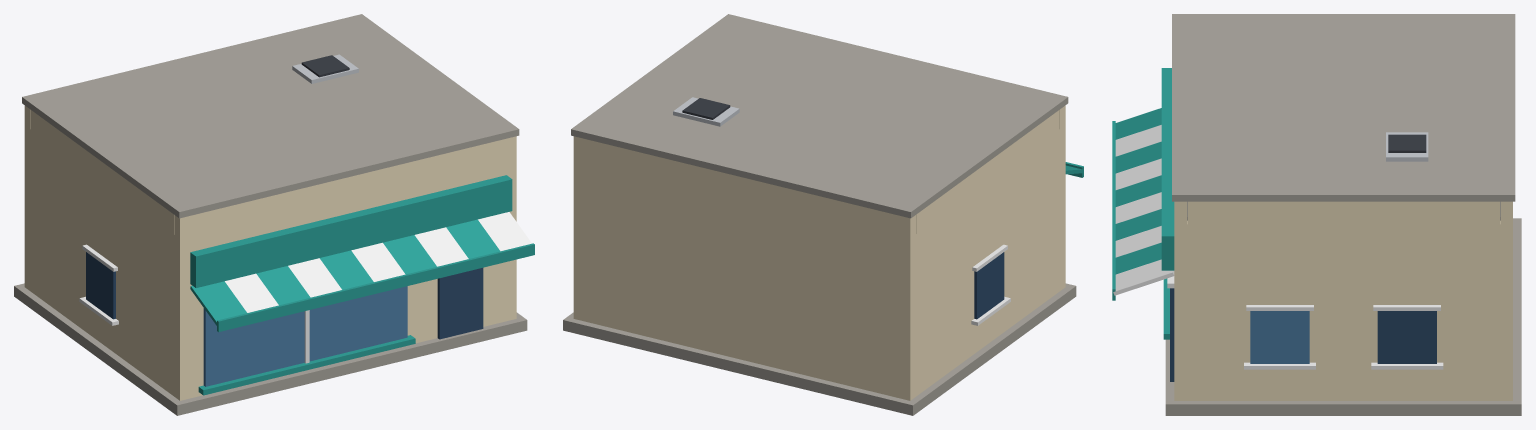
Rendered from Shop_Corner.glb.
3 renders of one model, left to right at view 1: azimuth 30°, elevation 25°; view 2: azimuth 150°, elevation 25°; view 3: azimuth 270°, elevation 25°, orthographic. The views are drawn at different scales.
Parts seen in each view (by area): view 1: Shop_Corner_Mesh; view 2: Shop_Corner_Mesh; view 3: Shop_Corner_Mesh.
Boxes of the visible parts, x1,y1,x2,y2 form: Shop_Corner_Mesh: (14,14,534,415); Shop_Corner_Mesh: (563,14,1083,415); Shop_Corner_Mesh: (1112,14,1521,415).
Bounding box in the file's own units: 10.4 × 5.86 × 9.66.
Materials: 1 (1 with a texture image).
